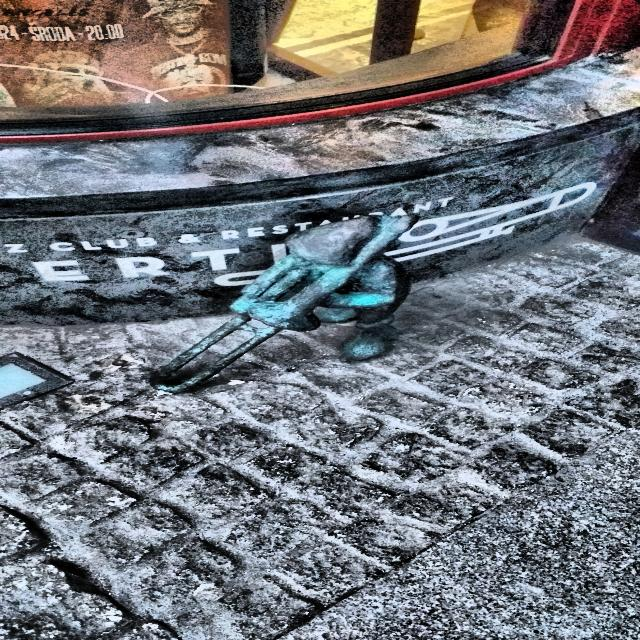Vertigus: (152, 215, 414, 392)
